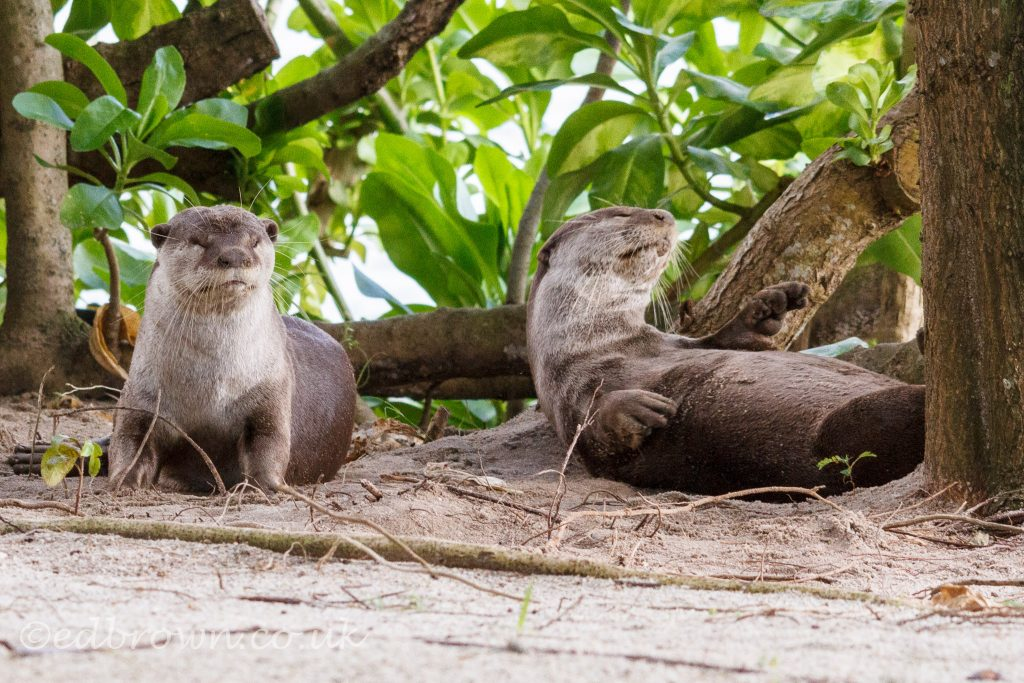otter: (511, 192, 927, 499), (96, 194, 371, 508)
